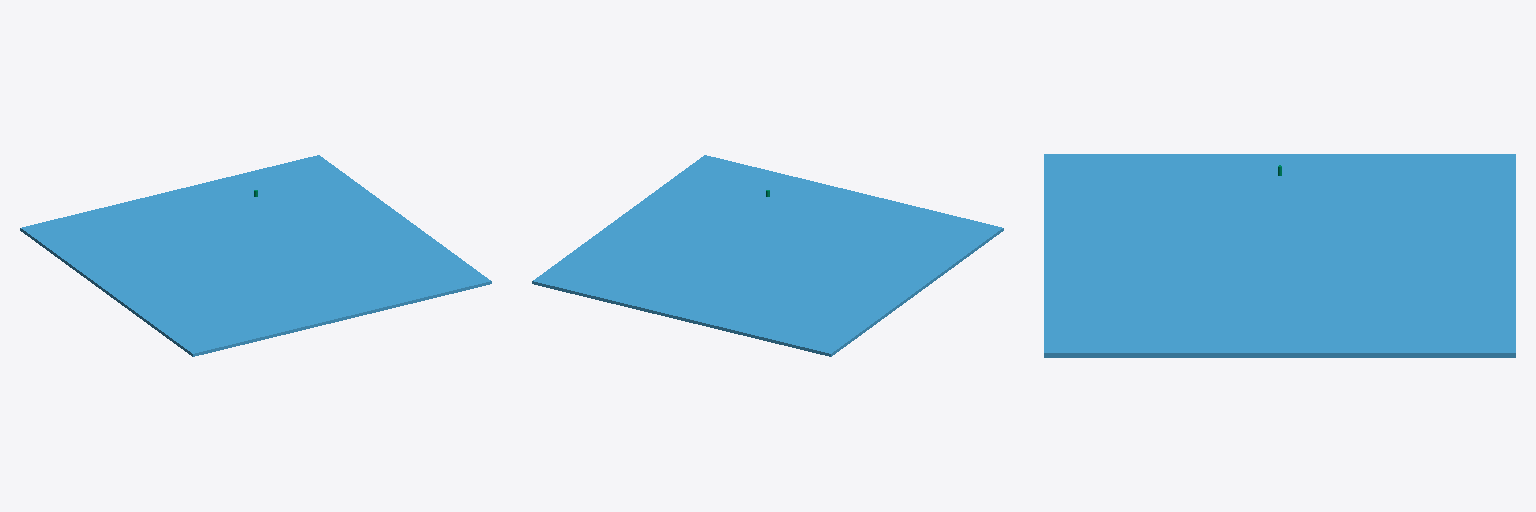
The robot description file, URDF, robot "robot":
<?xml version="1.0"?>
<robot xmlns:xacro="http://www.ros.org/wiki/xacro">

<link name="world"/>

<link name="link_wall1">
  <visual>
    <geometry>
      <box size="10 10 0.1" />
    </geometry>
  </visual>

  <inertial>
    <mass value="1.0"/>
    <inertia ixx="1.0" ixy="0.0" ixz="0.0" iyy="1.0" iyz="0.0" izz="1.0" />
  </inertial>
</link>

<joint name="joint_wall1" type="fixed">
  <origin xyz="0 0 0.0" rpy="0 0 0" />
  <parent link="world" />
  <child link="link_wall1" />
</joint>

<link name="link_projector">
  <visual>
    <geometry>
      <cylinder length="0.2" radius="0.05" />
    </geometry>
  </visual>
  <inertial>
    <mass value="1.0"/>
    <inertia ixx="1.0" ixy="0.0" ixz="0.0" iyy="1.0" iyz="0.0" izz="1.0" />
  </inertial>
</link>

<joint name="joint_projector" type="fixed">
  <origin xyz="0 0 2.0" rpy="0 0 0" />
  <parent link="world" />
  <child link="link_projector" />
</joint>

<gazebo reference="link_projector">
  <projector name="projector_test">
    <pose>0 0 0 0 0 0</pose>
    <texture>test_pattern.png</texture>
    <fov>0.6</fov>
    <near_clip>0.1</near_clip>
    <far_clip>10.0</far_clip>
  </projector>

</gazebo>

</robot>

--- Facts derived from the render (not from the file) ---
The picture shows the robot from 3 angles, left to right: view 1: azimuth 30°, elevation 25°; view 2: azimuth 150°, elevation 25°; view 3: azimuth 270°, elevation 25°; orthographic projection.
Robot: robot — 3 links, 2 joints (2 fixed); root link world; default pose: every joint at zero.
Visible links, largest first — view 1: link_wall1; view 2: link_wall1; view 3: link_wall1.
Boxes of the visible links, bbox=[...] form: link_wall1: bbox=[20, 155, 491, 356]; link_wall1: bbox=[532, 155, 1003, 356]; link_wall1: bbox=[1044, 154, 1515, 357].
Bounding box of the posed robot: 10 × 10 × 2.15 m (x, y, z).
Geometry: primitives only (box / cylinder / sphere), no mesh files.